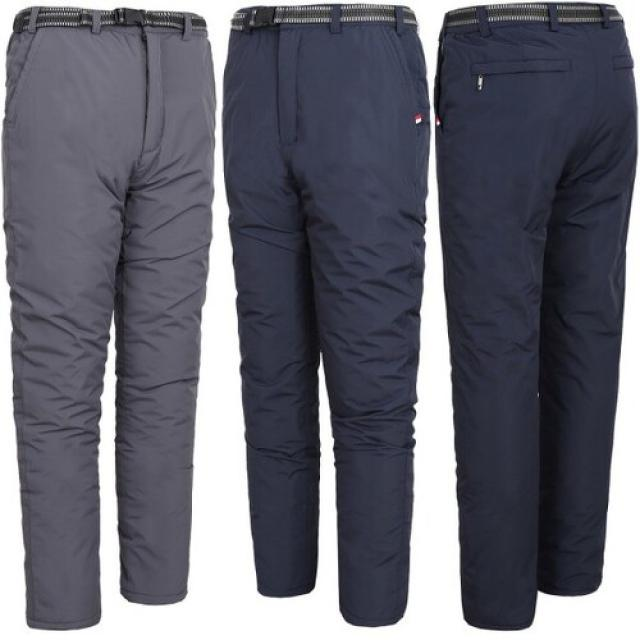pants: (1, 0, 219, 635), (220, 0, 431, 629), (432, 0, 640, 632)
